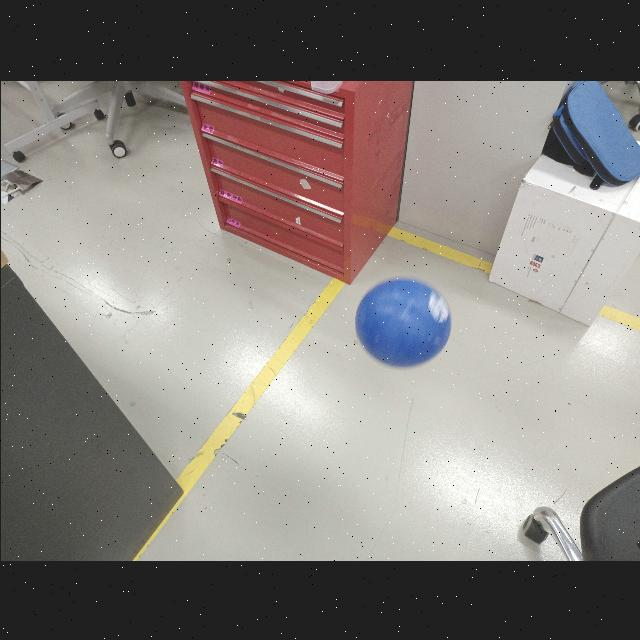B: (352, 276, 456, 364)
